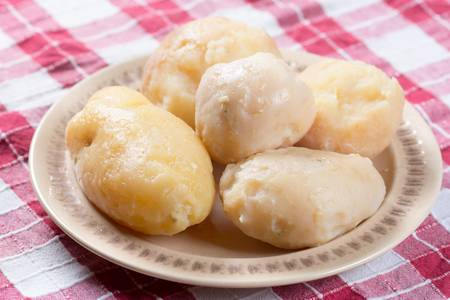boiled potatoes: (65, 87, 213, 236), (220, 146, 385, 253), (193, 52, 316, 160), (146, 17, 271, 108), (304, 59, 403, 153)
